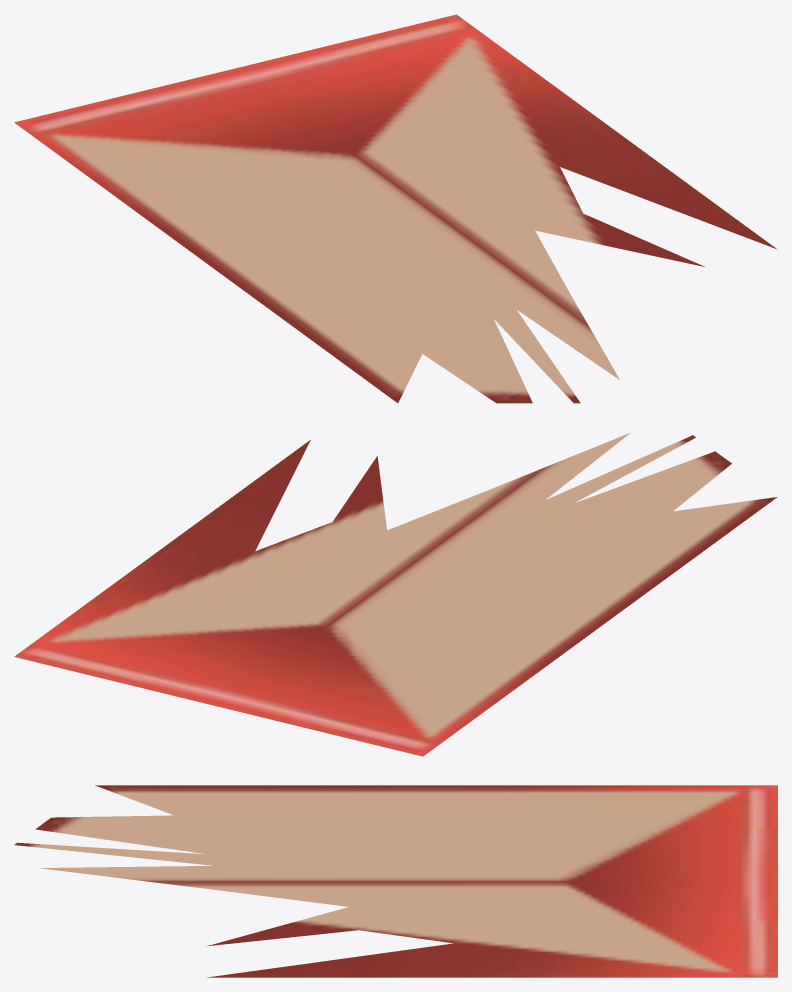
The model's file is Destroyed flag.fbx.
3 renders of one model, top to bottom at view 1: azimuth 30°, elevation 25°; view 2: azimuth 150°, elevation 25°; view 3: azimuth 270°, elevation 25°, orthographic. The views are drawn at different scales.
Visible parts, largest first — view 1: Flag.Destroyed 2; view 2: Flag.Destroyed 2; view 3: Flag.Destroyed 2.
Part boxes in pixels (x1,y1,x2,y2): Flag.Destroyed 2: (14, 14, 777, 403); Flag.Destroyed 2: (14, 432, 777, 756); Flag.Destroyed 2: (14, 785, 777, 977).
Size of the model in its own units: 398 by 0.000109 by 668.
